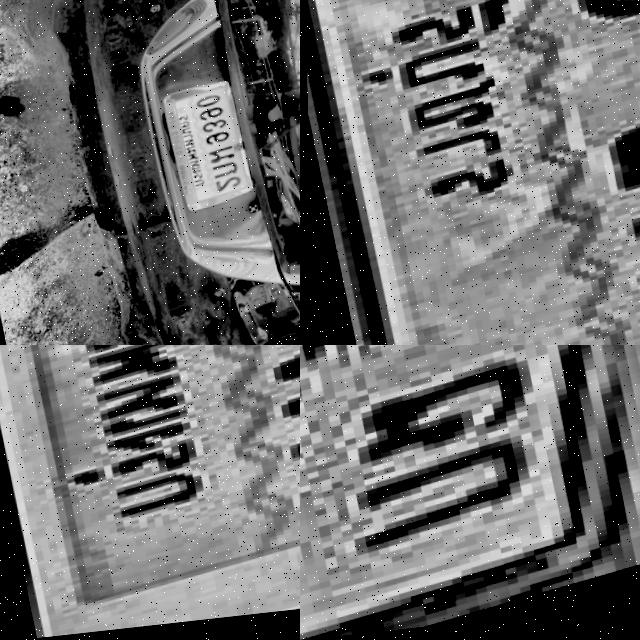license-plate: (300, 0, 640, 345), (300, 345, 640, 640), (0, 345, 300, 640), (154, 76, 257, 221)
